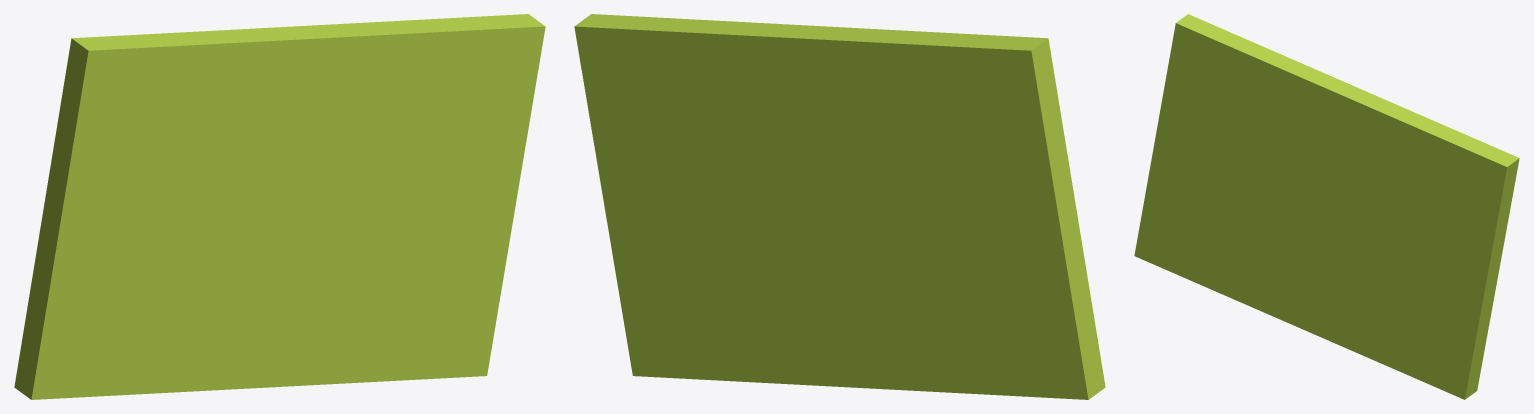
3 views of the same model, side by side, from view 1: azimuth 30°, elevation 25°; view 2: azimuth 150°, elevation 25°; view 3: azimuth 330°, elevation 25° (orthographic). The views are drawn at different scales.
Visible parts, largest first — view 1: osm-way27917482-F2; view 2: osm-way27917482-F2; view 3: osm-way27917482-F2.
Boxes of the visible parts, x1,y1,x2,y2 form: osm-way27917482-F2: [14, 14, 545, 399]; osm-way27917482-F2: [574, 14, 1105, 399]; osm-way27917482-F2: [1134, 14, 1519, 399].
Bounding box in the file's own units: 2.61 × 2.05 × 0.15.
